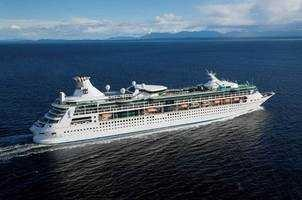youlun: (27, 64, 278, 147)
